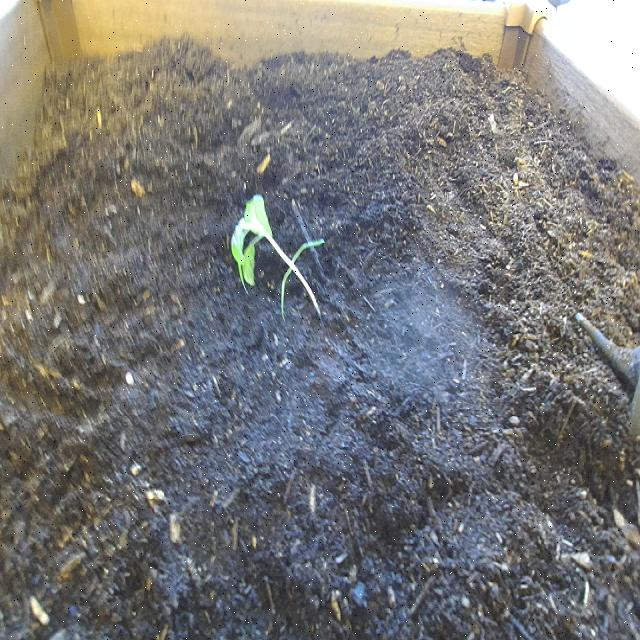Healthy: (227, 190, 328, 326)
